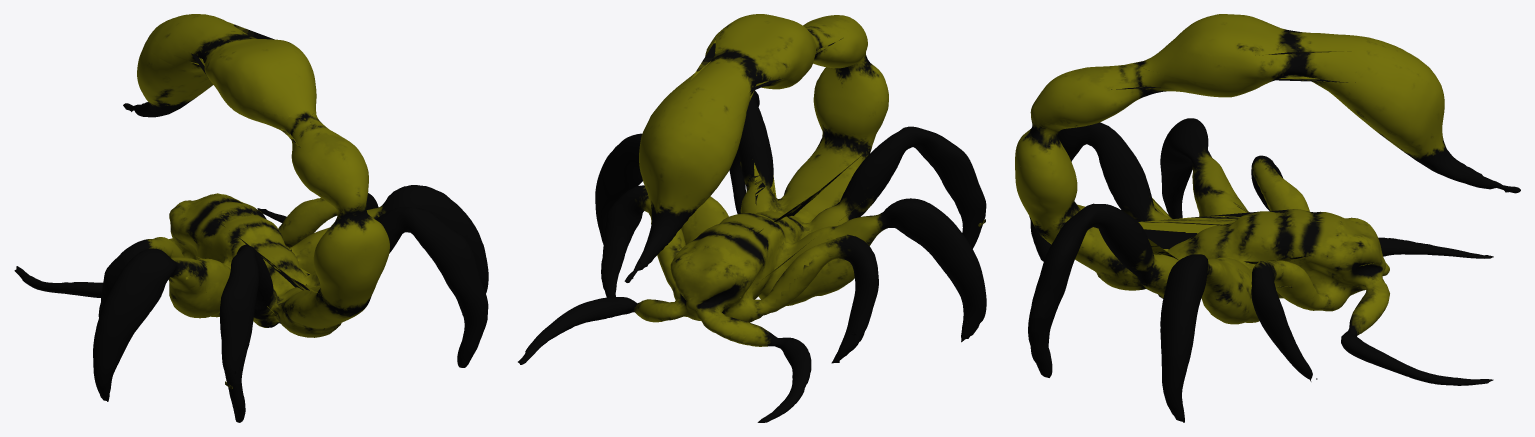
The model's file is ScorpionExploded.fbx.
3 renders of one model, left to right at view 1: azimuth 30°, elevation 25°; view 2: azimuth 150°, elevation 25°; view 3: azimuth 270°, elevation 25°, orthographic. The views are drawn at different scales.
Visible parts, largest first — view 1: Scorpion, Scorpion_cell.038, Scorpion_cell.053, Scorpion_cell.077, Scorpion_cell.037, Scorpion_cell.047, Scorpion_cell.048, Scorpion_cell.055, Scorpion_cell.052, Scorpion_cell.058, Scorpion_cell.049, Scorpion_cell.040 (+8 smaller); view 2: Scorpion, Scorpion_cell.053, Scorpion_cell.039, Scorpion_cell.037, Scorpion_cell.063, Scorpion_cell.089, Scorpion_cell.038, Scorpion_cell.047, Scorpion_cell.050, Scorpion_cell.052, Scorpion_cell.048, Scorpion_cell.088 (+8 smaller); view 3: Scorpion, Scorpion_cell.053, Scorpion_cell.048, Scorpion_cell.049, Scorpion_cell.055, Scorpion_cell.052, Scorpion_cell.038, Scorpion_cell.045, Scorpion_cell.078, Scorpion_cell.039, Scorpion_cell.063, Scorpion_cell.089 (+10 smaller).
Boxes of the visible parts, x1,y1,x2,y2 form: Scorpion: (14,14,488,421); Scorpion_cell.038: (167,14,309,101); Scorpion_cell.053: (188,202,389,322); Scorpion_cell.077: (138,41,213,112); Scorpion_cell.037: (169,209,342,328); Scorpion_cell.047: (292,159,386,258); Scorpion_cell.048: (155,15,316,118); Scorpion_cell.055: (389,221,487,303); Scorpion_cell.052: (147,24,352,160); Scorpion_cell.058: (222,253,263,348); Scorpion_cell.049: (258,120,368,194); Scorpion_cell.040: (456,297,488,367); Scorpion: (519,14,986,422); Scorpion_cell.053: (671,83,888,293); Scorpion_cell.039: (925,218,986,341); Scorpion_cell.037: (688,148,871,305); Scorpion_cell.063: (518,297,621,364); Scorpion_cell.089: (757,334,811,422); Scorpion_cell.038: (686,14,814,110); Scorpion_cell.047: (813,27,888,102); Scorpion_cell.050: (695,273,780,337); Scorpion_cell.052: (652,15,853,148); Scorpion_cell.048: (657,34,815,129); Scorpion_cell.088: (818,264,854,295); Scorpion: (1015,14,1520,422); Scorpion_cell.053: (1015,159,1381,266); Scorpion_cell.048: (1137,44,1421,84); Scorpion_cell.049: (1034,77,1247,126); Scorpion_cell.055: (1030,216,1147,317); Scorpion_cell.052: (1057,61,1436,99); Scorpion_cell.038: (1168,14,1390,56); Scorpion_cell.045: (1083,259,1389,322); Scorpion_cell.078: (1328,78,1441,145); Scorpion_cell.039: (1160,158,1192,218); Scorpion_cell.063: (1342,337,1493,383); Scorpion_cell.089: (1378,237,1493,258).
Size of the model in its own units: 1507 by 1081 by 1609.
